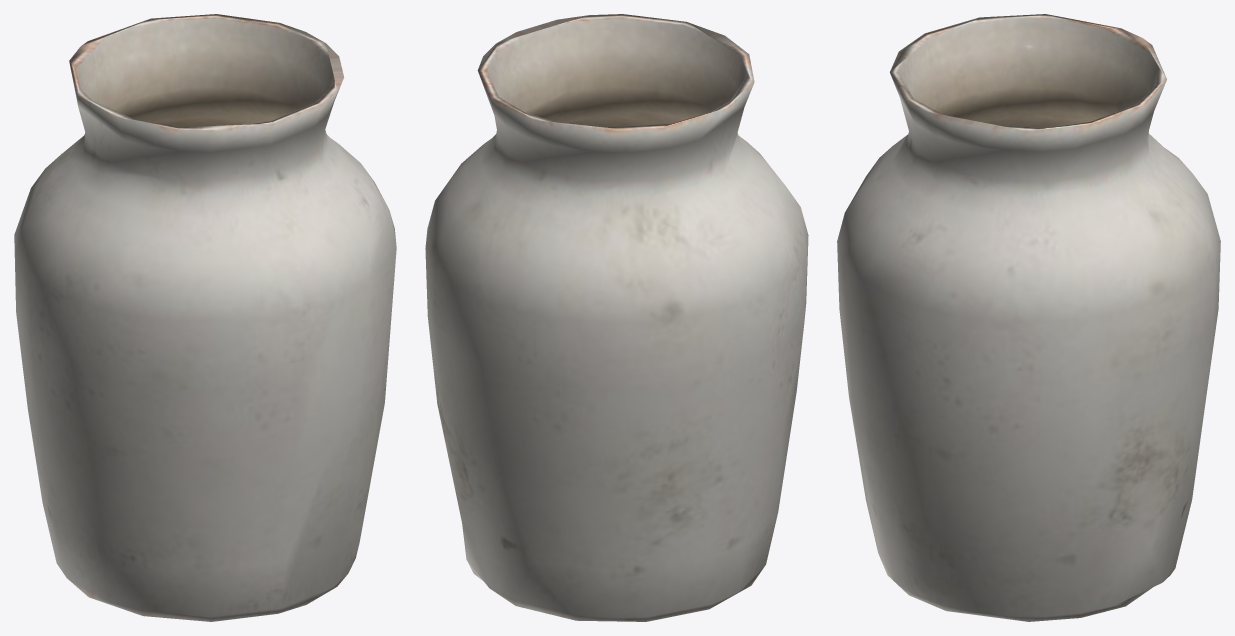
The picture shows the model from 3 angles, left to right: view 1: azimuth 30°, elevation 25°; view 2: azimuth 150°, elevation 25°; view 3: azimuth 270°, elevation 25°; orthographic projection.
Visible parts, largest first — view 1: ceramic_vase_02; view 2: ceramic_vase_02; view 3: ceramic_vase_02.
Part boxes in pixels (left/top/right/bottom): ceramic_vase_02: left=14, top=14, right=396, bottom=621; ceramic_vase_02: left=425, top=14, right=808, bottom=621; ceramic_vase_02: left=837, top=14, right=1220, bottom=621.
Size of the model in its own units: 0.216 by 0.3085 by 0.2176.
Materials: 1 (1 with a texture image).
